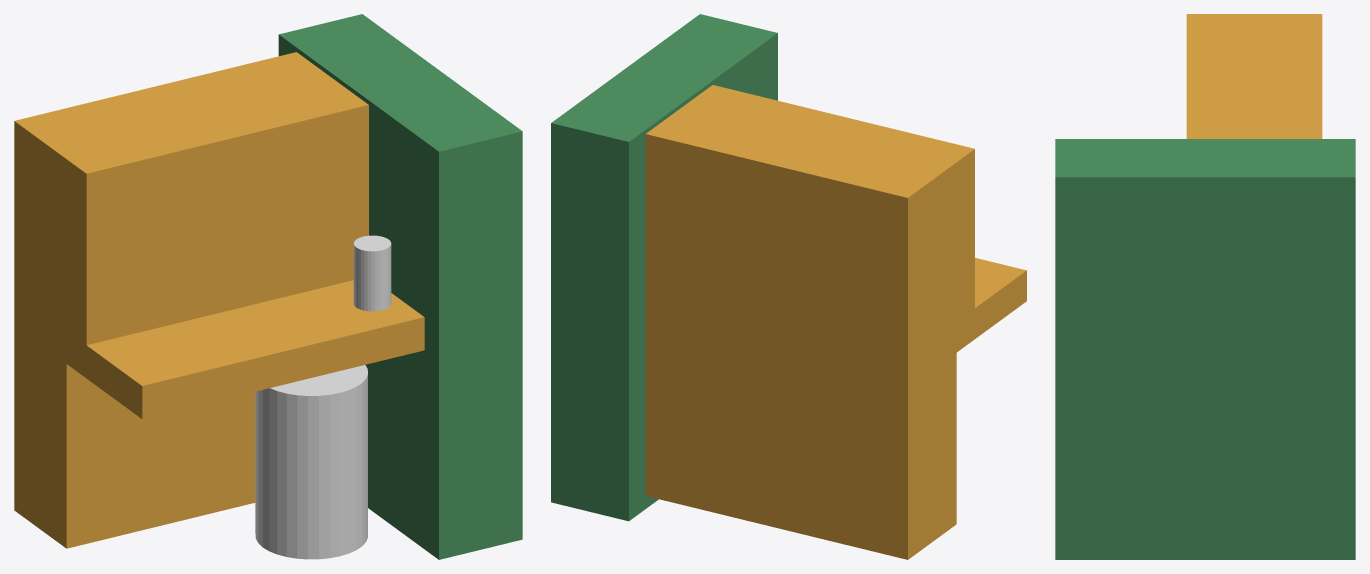
Rendered from spinning machine.glb.
3 renders of one model, left to right at view 1: azimuth 30°, elevation 25°; view 2: azimuth 150°, elevation 25°; view 3: azimuth 270°, elevation 25°, orthographic. The views are drawn at different scales.
Visible parts, largest first — view 1: 立方体, Cube, 円柱, 円柱.001; view 2: 立方体, Cube; view 3: Cube, 立方体.
Boxes of the visible parts, <box> form: 立方体: <box>14,52,424,548</box>; Cube: <box>278,14,522,559</box>; 円柱: <box>255,365,367,559</box>; 円柱.001: <box>353,235,391,311</box>; 立方体: <box>645,85,1026,559</box>; Cube: <box>551,14,777,521</box>; Cube: <box>1055,139,1355,559</box>; 立方体: <box>1186,14,1322,138</box>.
Size of the model in its own units: 1.88 by 2 by 1.42.
